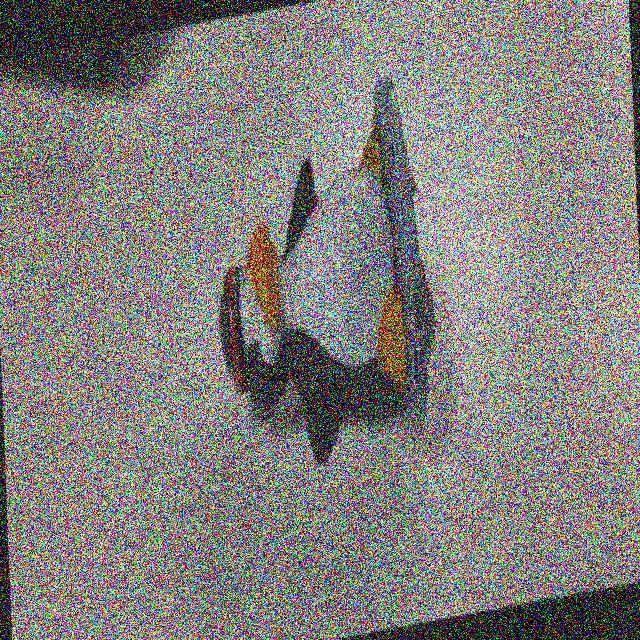Penguin: (201, 51, 449, 494)
